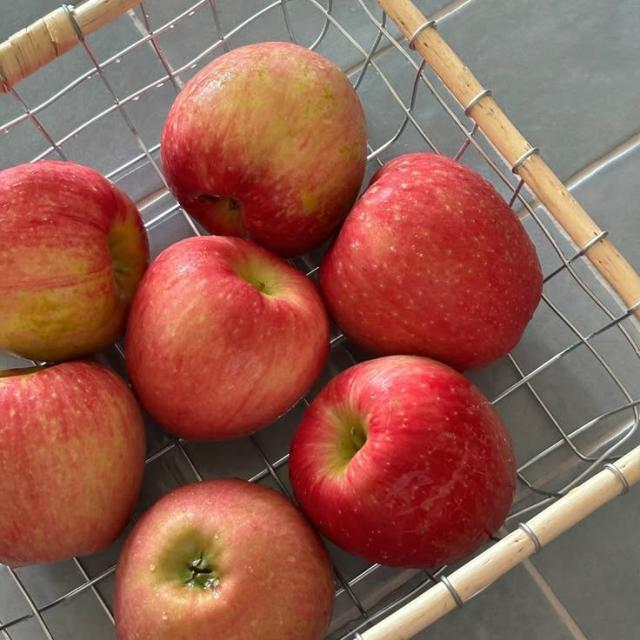apple: (320, 154, 542, 369), (289, 356, 515, 566), (161, 42, 366, 255), (127, 237, 328, 439), (115, 480, 333, 639), (0, 361, 145, 565), (0, 161, 148, 360)
